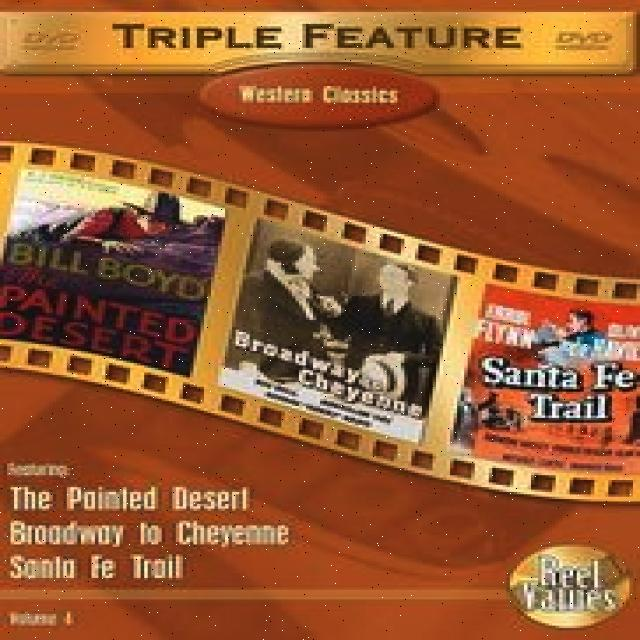movie-judul: (105, 13, 530, 63)
picture: (0, 142, 640, 504)
